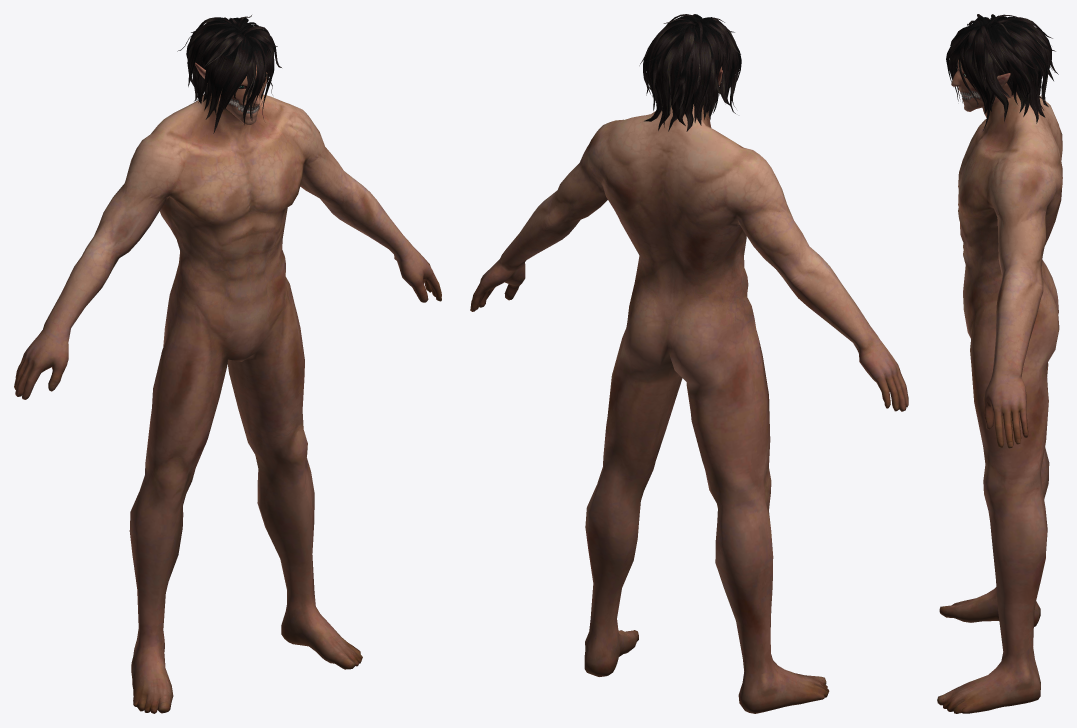
Rendered from Titan Eren.fbx.
3 renders of one model, left to right at view 1: azimuth 30°, elevation 25°; view 2: azimuth 150°, elevation 25°; view 3: azimuth 270°, elevation 25°, orthographic. The views are drawn at different scales.
Visible parts, largest first — view 1: Badan, Rambut, Kepala; view 2: Badan, Rambut; view 3: Badan, Rambut, Kepala.
Boxes of the visible parts, x1=… form: Badan: x1=14, y1=93, x2=441, y2=713; Rambut: x1=177, y1=15, x2=281, y2=133; Kepala: x1=195, y1=62, x2=267, y2=124; Badan: x1=470, y1=104, x2=908, y2=713; Rambut: x1=639, y1=14, x2=741, y2=131; Badan: x1=937, y1=95, x2=1062, y2=713; Rambut: x1=946, y1=14, x2=1058, y2=130; Kepala: x1=951, y1=57, x2=1017, y2=111.
Size of the model in its own units: 5031 by 7382 by 1304.
3 materials, 3 textured.
